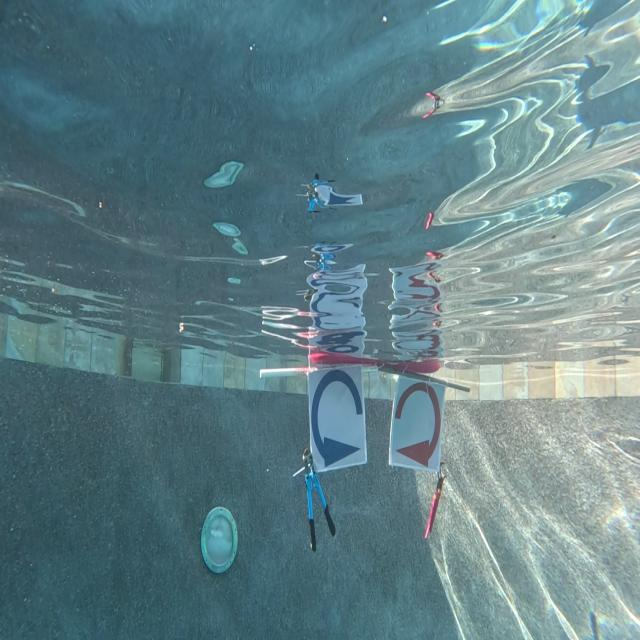blue_side: (310, 363, 367, 470)
red_side: (388, 372, 442, 471)
